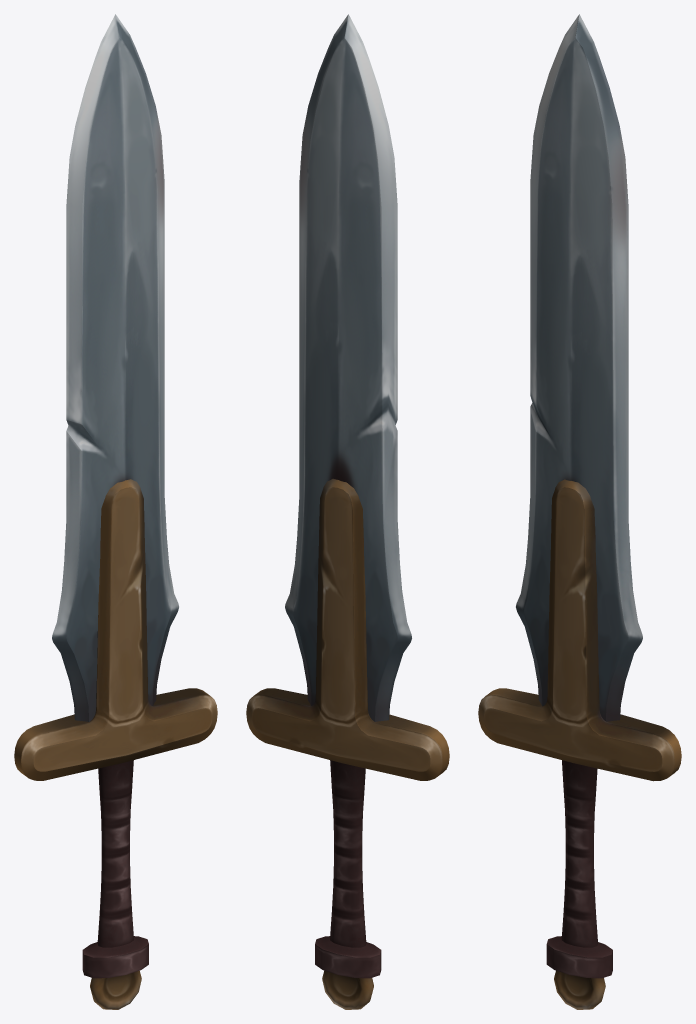
Rendered from Sword_2_Long.FBX.
3 renders of one model, left to right at view 1: azimuth 30°, elevation 25°; view 2: azimuth 150°, elevation 25°; view 3: azimuth 330°, elevation 25°, orthographic.
Parts seen in each view (by area): view 1: Sword_2_Length; view 2: Sword_2_Length; view 3: Sword_2_Length.
Boxes of the visible parts, x1,y1,x2,y2 form: Sword_2_Length: (14, 14, 217, 1009); Sword_2_Length: (246, 14, 449, 1009); Sword_2_Length: (478, 14, 681, 1009).
Bounding box in the file's own units: 24.23 × 4.78 × 117.
